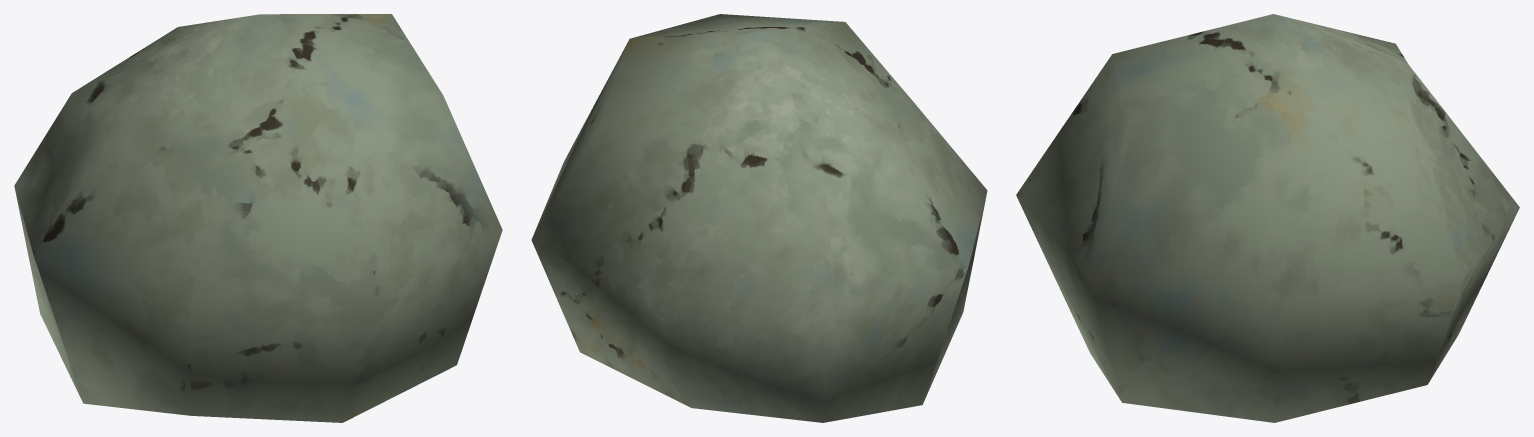
Rendered from Rock2_Low.fbx.
3 views of the same model, side by side, from view 1: azimuth 30°, elevation 25°; view 2: azimuth 150°, elevation 25°; view 3: azimuth 270°, elevation 25° (orthographic). The views are drawn at different scales.
Visible parts, largest first — view 1: Rock2_High.003; view 2: Rock2_High.003; view 3: Rock2_High.003.
Part boxes in pixels (x1,y1,x2,y2): Rock2_High.003: [14, 14, 502, 422]; Rock2_High.003: [531, 14, 987, 422]; Rock2_High.003: [1016, 14, 1519, 422].
Bounding box in the file's own units: 160 × 124 × 161.
